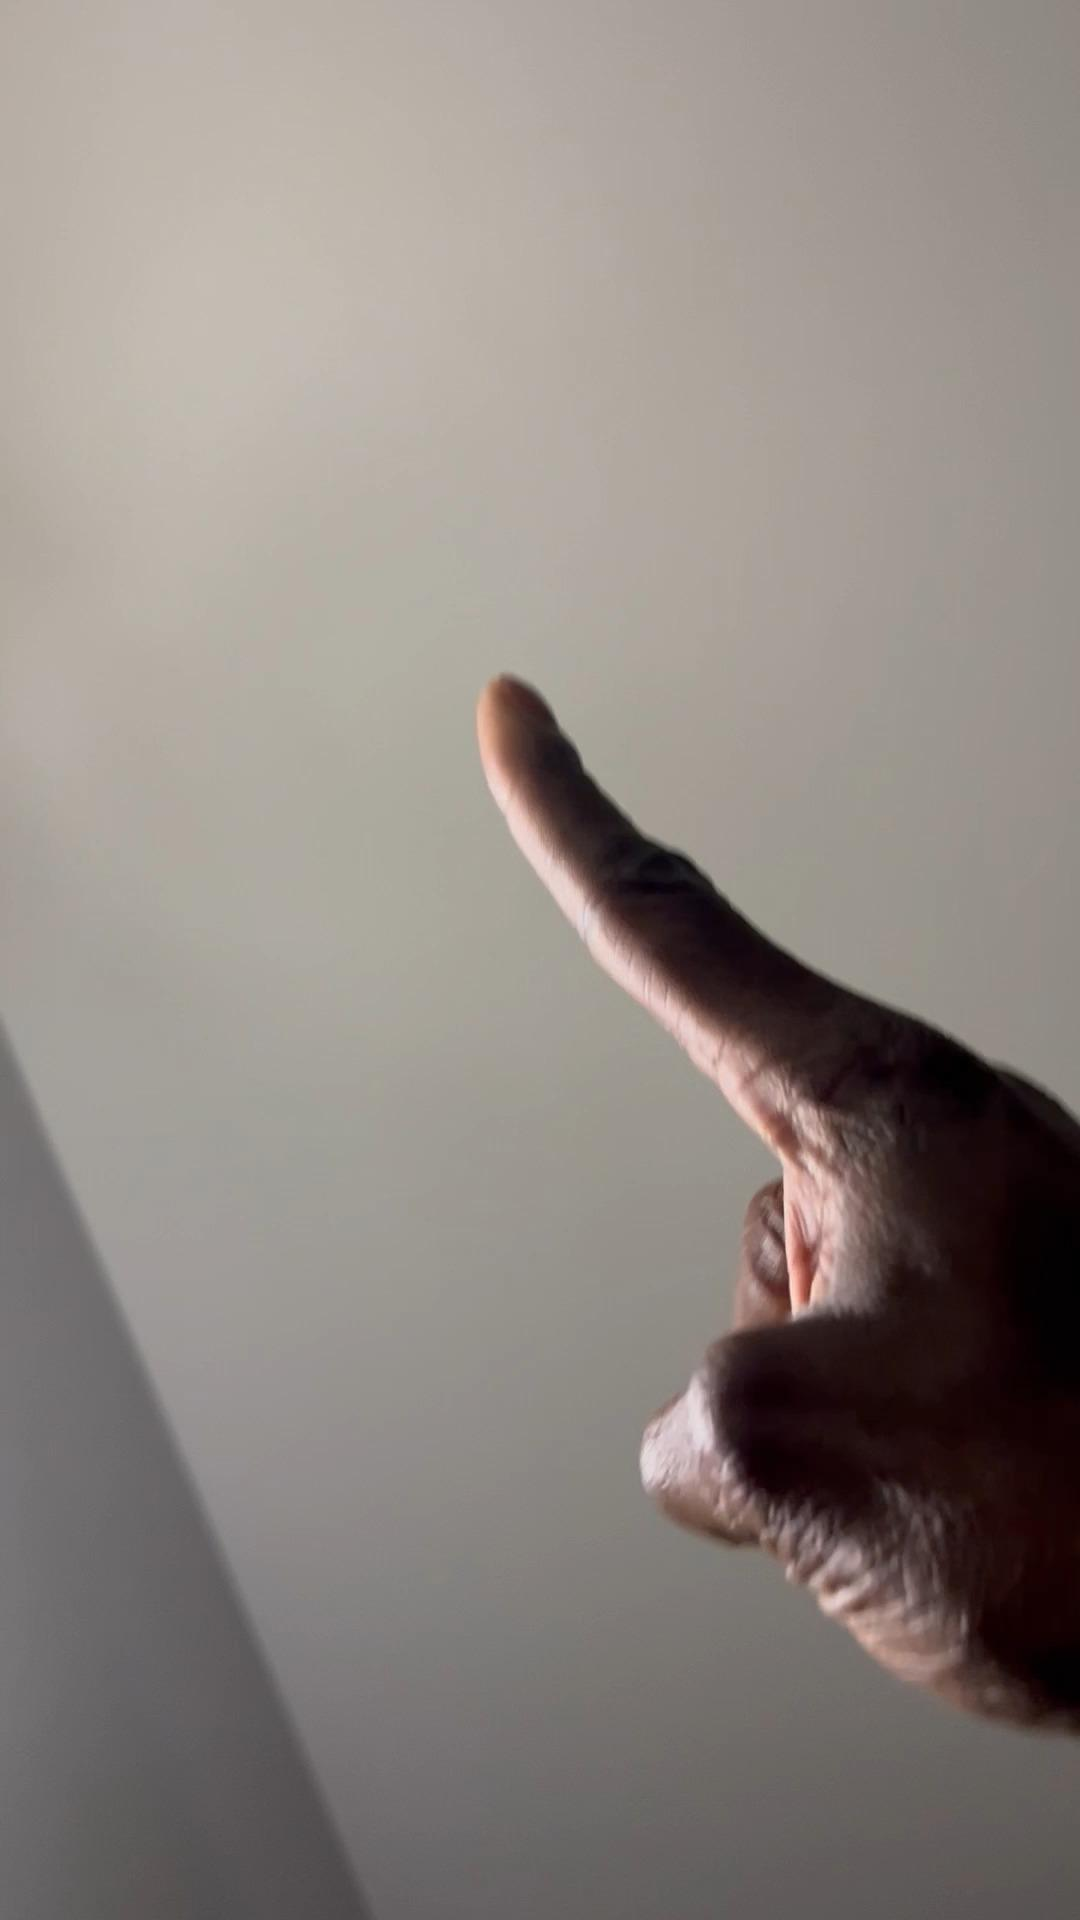Scissors: (476, 663, 1080, 1737)
